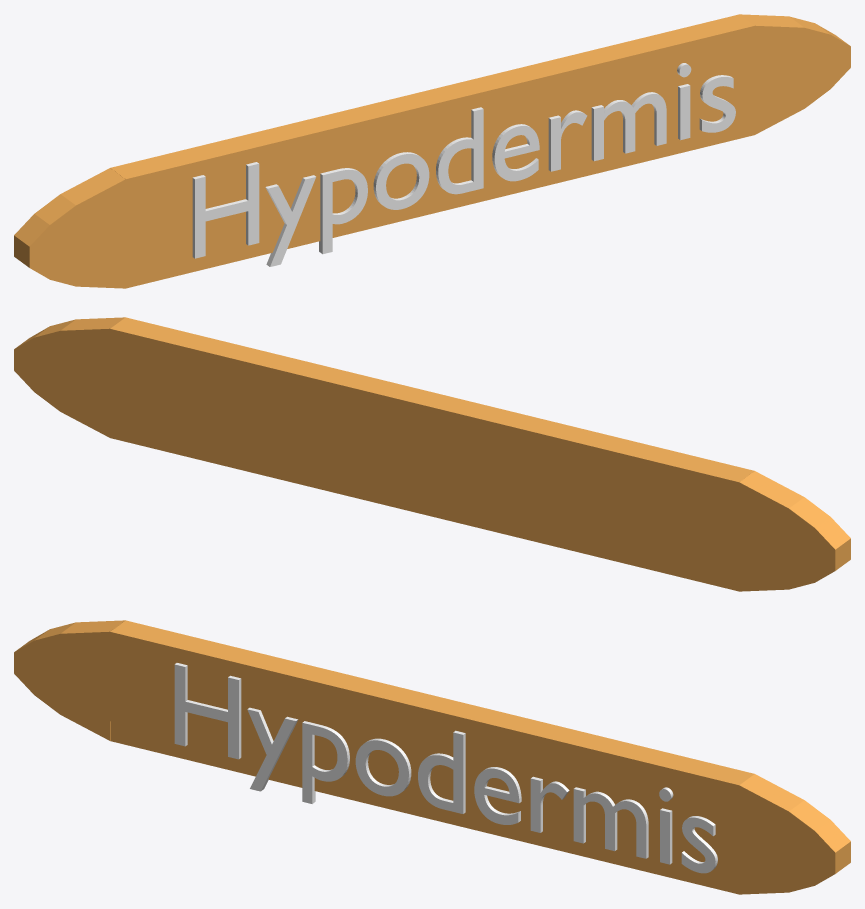
Rendered from txtHypoDermis.fbx.
3 renders of one model, top to bottom at view 1: azimuth 30°, elevation 25°; view 2: azimuth 150°, elevation 25°; view 3: azimuth 330°, elevation 25°, orthographic.
Visible parts, largest first — view 1: TagContainer.027, Text.026; view 2: TagContainer.027; view 3: TagContainer.027, Text.026.
Part boxes in pixels (<box>): TagContainer.027: <box>14,14,850,288</box>; Text.026: <box>192,63,735,266</box>; TagContainer.027: <box>14,317,850,591</box>; TagContainer.027: <box>14,620,850,894</box>; Text.026: <box>174,663,717,873</box>.
Size of the model in its own units: 227 by 31.91 by 8.61.
